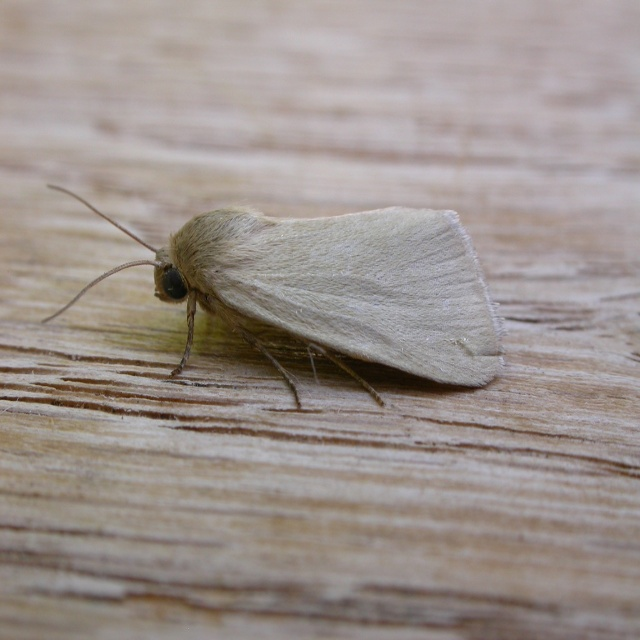Moths and butterflies: (36, 183, 511, 416)
